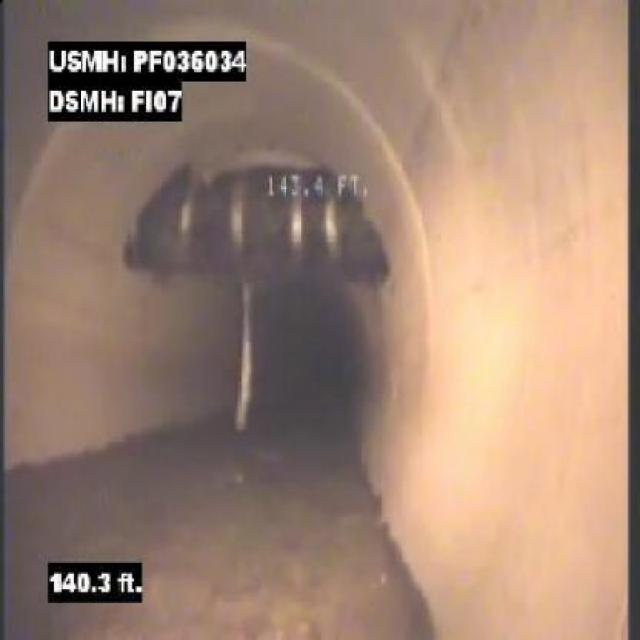Utility intrusion: (114, 157, 391, 294)
